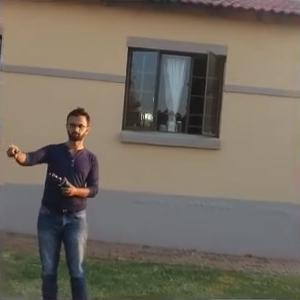follow: (0, 104, 110, 298)
